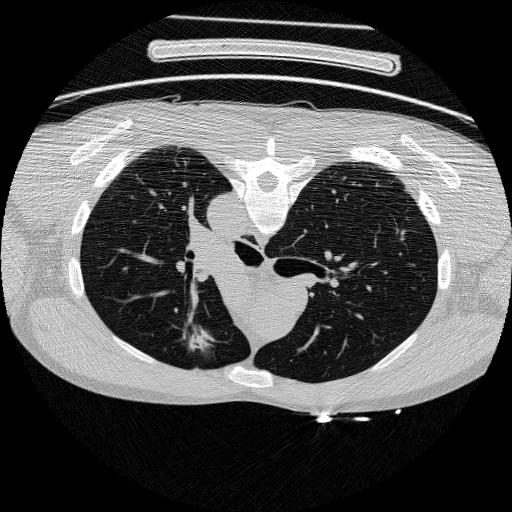nodule: (178, 323, 215, 360)
